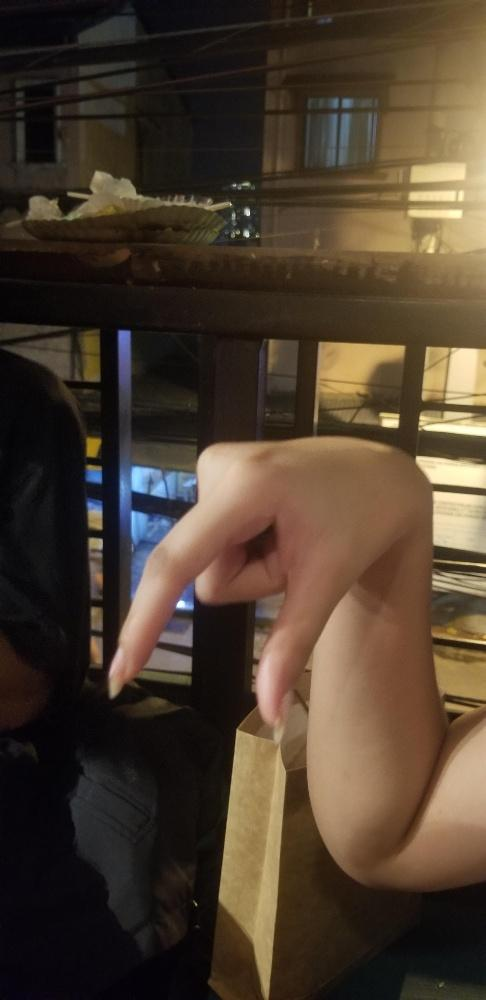q: (99, 425, 420, 727)
